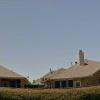Chimney: (73, 43, 89, 66)
